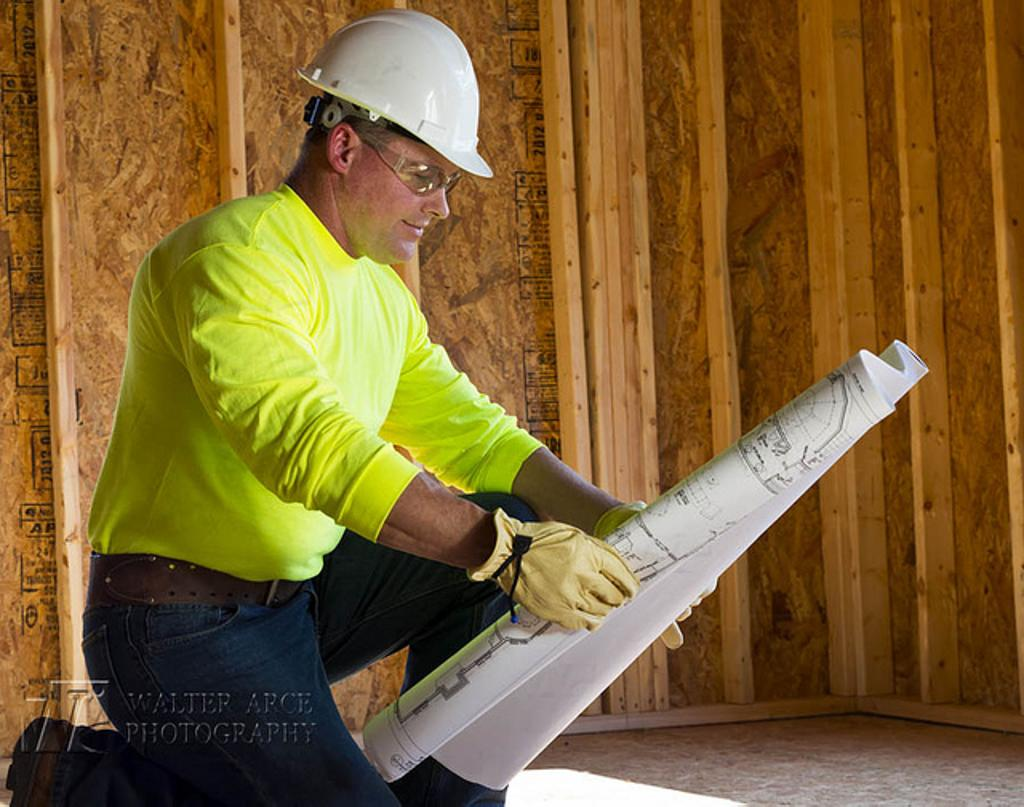face: (352, 86, 456, 252)
